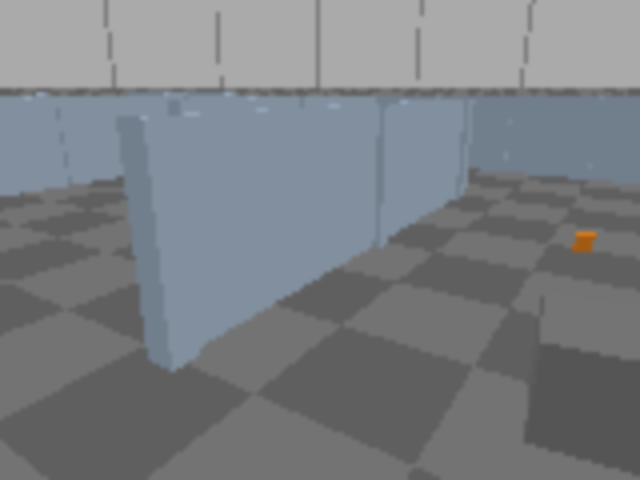puck: (573, 230, 595, 253)
